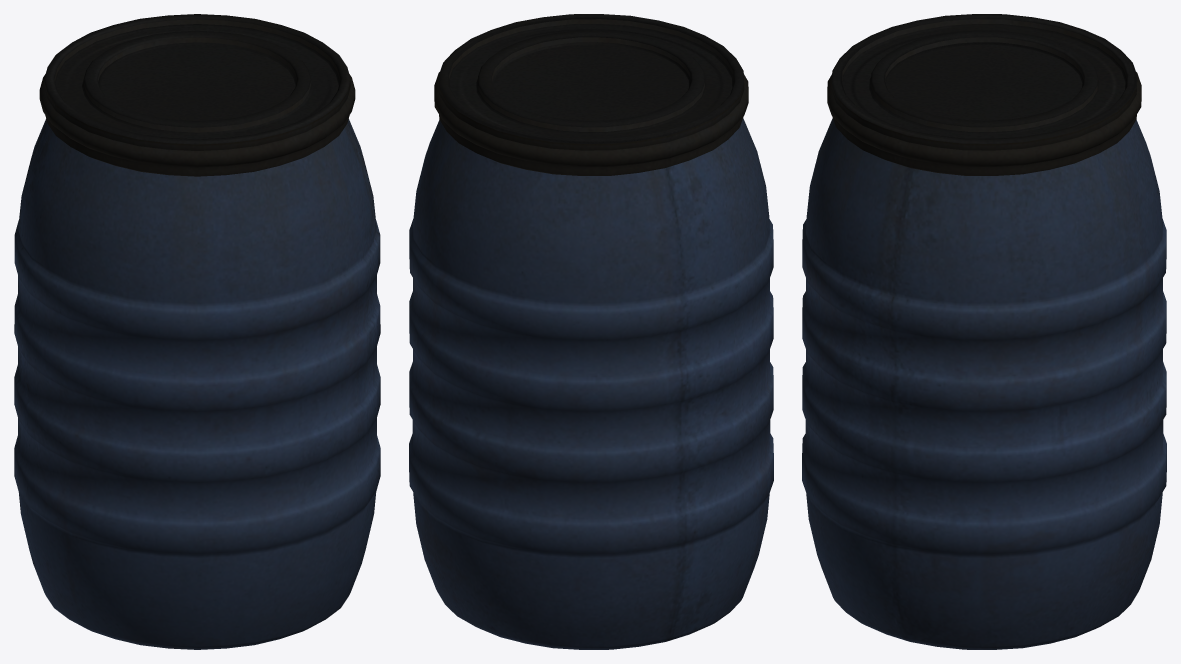
File: water_barrel_1.obj
The picture shows the model from 3 angles, left to right: view 1: azimuth 30°, elevation 25°; view 2: azimuth 150°, elevation 25°; view 3: azimuth 270°, elevation 25°; orthographic projection.
Visible parts, largest first — view 1: water_barrel_1; view 2: water_barrel_1; view 3: water_barrel_1.
Boxes of the visible parts, x1=… form: water_barrel_1: x1=14, y1=14, x2=380, y2=649; water_barrel_1: x1=409, y1=14, x2=773, y2=649; water_barrel_1: x1=802, y1=14, x2=1166, y2=649.
Bounding box in the file's own units: 0.6077 × 0.9366 × 0.6077.
